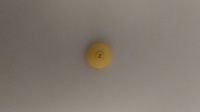Nurofen: (83, 41, 114, 70)
